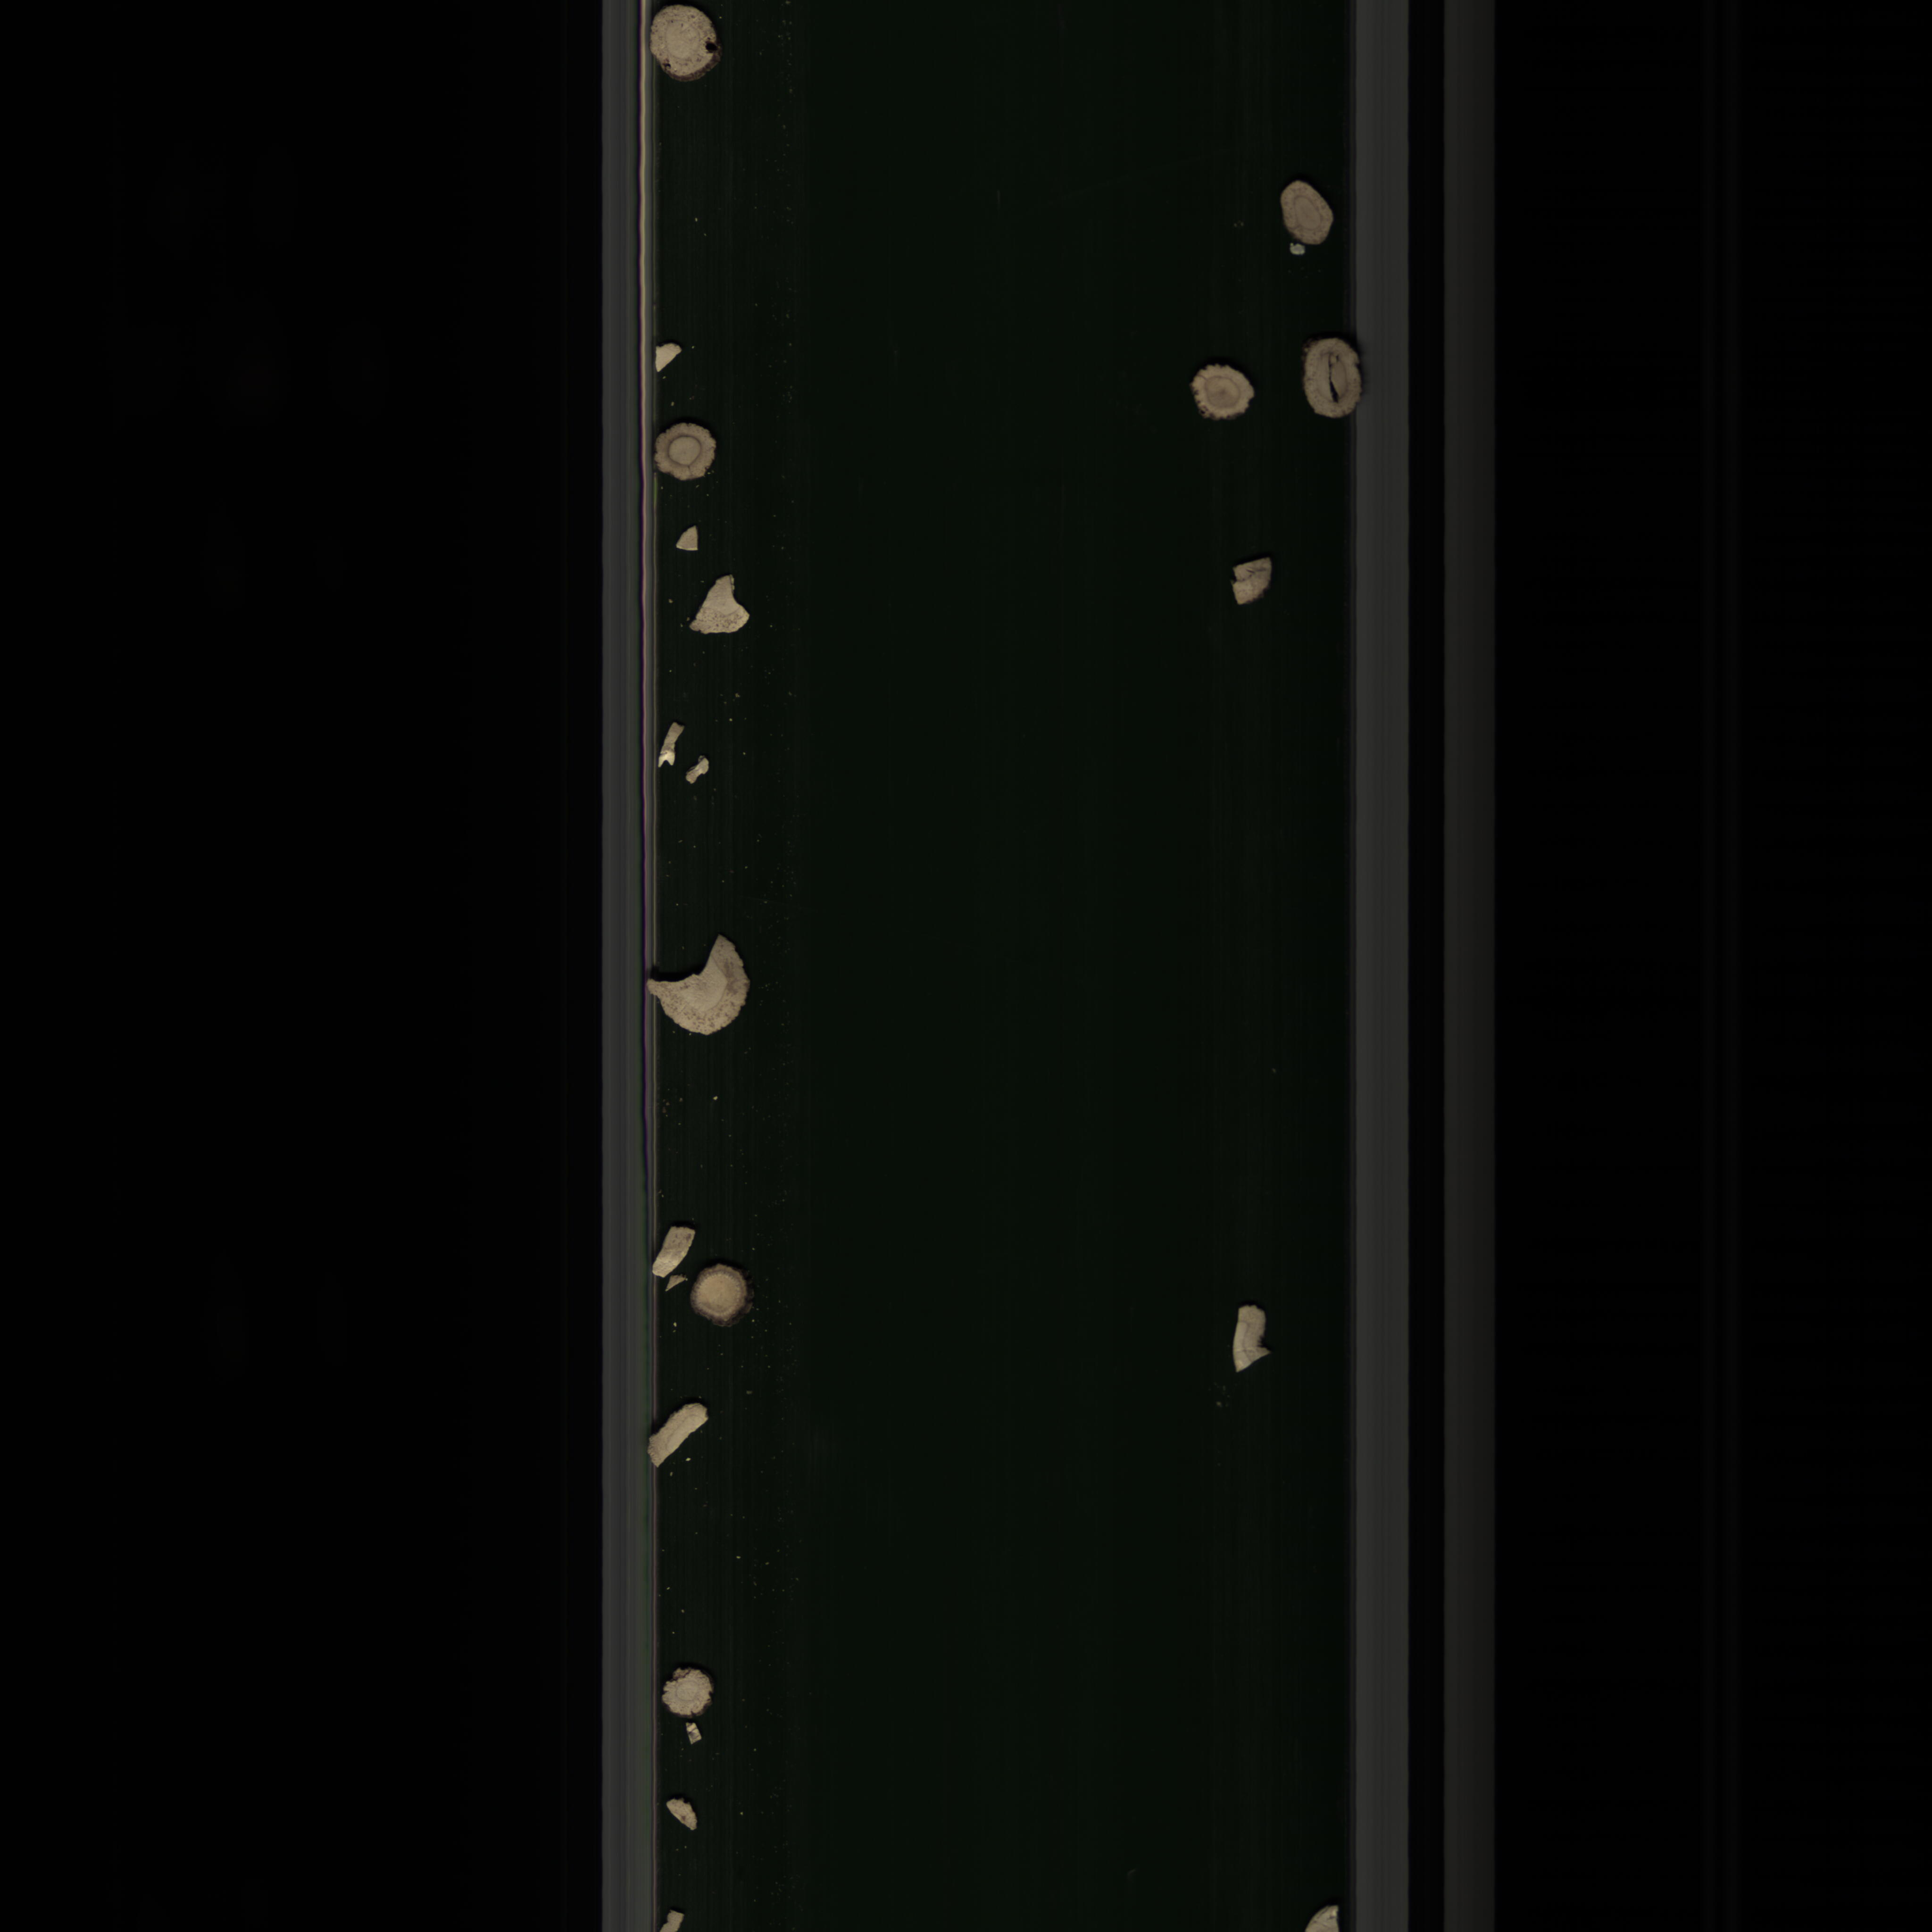debris: (648, 925, 757, 1047), (678, 570, 766, 648), (640, 1394, 715, 1479), (1219, 1297, 1277, 1382), (1221, 548, 1277, 609), (651, 1224, 701, 1277), (662, 1790, 701, 1844), (672, 518, 709, 557), (656, 717, 683, 766), (651, 336, 685, 373), (683, 755, 718, 784)
moldy: (1300, 327, 1380, 425), (1185, 357, 1256, 425)
